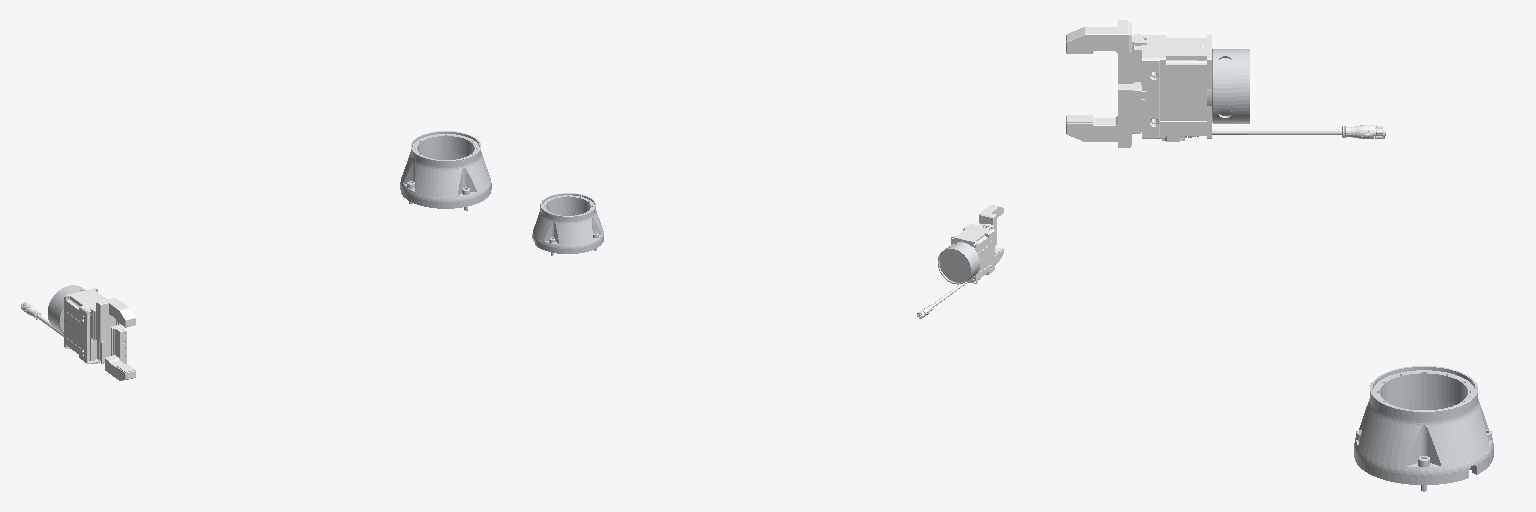
robot.urdf — fr5_robot:
<?xml version="1.0" encoding="utf-8"?>
<!-- This URDF was automatically created by SolidWorks to URDF Exporter! Originally created by [author] ([email redacted]) 
     Commit Version: 1.5.1-0-g916b5db  Build Version: 1.5.7152.31018
     For more information, please see http://wiki.ros.org/sw_urdf_exporter -->
<robot
  name="fr5_robot">

  <link name="world"/>
  <joint name="world" type="fixed">
    <parent link="world"/>
    <child link="base_link"/>
  </joint>

  <link
    name="base_link">
    <inertial>
      <origin
        xyz="-0.00044457 0.0004811 0.032592"
        rpy="0 0 0" />
      <mass
        value="1.073" />
      <inertia
        ixx="0.0024567"
        ixy="-1.5435E-05"
        ixz="-1.3507E-05"
        iyy="0.0024575"
        iyz="1.4421E-05"
        izz="0.0038879" />
    </inertial>
    <visual>
      <origin
        xyz="0 0 0"
        rpy="0 0 0" />
      <geometry>
        <mesh
          filename="package://fr5_description/meshes/visual/base.dae" />
      </geometry>
      <material
        name="">
        <color
          rgba="0.89804 0.91765 0.92941 1" />
      </material>
    </visual>
    <collision>
      <origin
        xyz="0 0 0"
        rpy="0 0 0" />
      <geometry>
        <mesh
          filename="package://fr5_description/meshes/collision/base_link.STL" />
      </geometry>
    </collision>
  </link>
  <link
    name="shoulder_Link">
    <inertial>
      <origin
        xyz="1.3785E-06 -0.0031495 0.14526"
        rpy="0 0 0" />
      <mass
        value="4.1676" />
      <inertia
        ixx="0.010397"
        ixy="-1.005E-08"
        ixz="1.6274E-07"
        iyy="0.010278"
        iyz="0.00015856"
        izz="0.0076307" />
    </inertial>
    <visual>
      <origin
        xyz="0 0 0"
        rpy="0 0 0" />
      <geometry>
        <mesh
          filename="package://fr5_description/meshes/visual/shoulder.dae" />
      </geometry>
      <material
        name="">
        <color
          rgba="0.89804 0.91765 0.92941 1" />
      </material>
    </visual>
    <collision>
      <origin
        xyz="0 0 0"
        rpy="0 0 0" />
      <geometry>
        <mesh
          filename="package://fr5_description/meshes/collision/shoulder_Link.STL" />
      </geometry>
    </collision>
  </link>
  <joint
    name="j1"
    type="revolute">
    <origin
      xyz="0 0 0"
      rpy="0 0 0" />
    <parent
      link="base_link" />
    <child
      link="shoulder_Link" />
    <axis
      xyz="0 0 1" />
    <limit
      lower="-3.0543261"
      upper="3.0543261"
      effort="150"
      velocity="3.15" />
    <calibration
      rising="0"
      falling="0" />
    <dynamics
      damping="0"
      friction="0" />
    <safety_controller
      soft_upper_limit="3.0543261"
      soft_lower_limit="-3.0543261"
      k_position="100.0"
      k_velocity="40.0" />
  </joint>
  <link
    name="upperarm_Link">
    <inertial>
      <origin
        xyz="-2.2928E-05 0.33278 0.084237"
        rpy="0 0 0" />
      <mass
        value="20.782" />
      <inertia
        ixx="2.9074"
        ixy="-0.00023104"
        ixz="-2.5049E-05"
        iyy="0.12653"
        iyz="-0.1479"
        izz="2.8157" />
    </inertial>
    <visual>
      <origin
        xyz="0 0 0"
        rpy="0 0 0" />
      <geometry>
        <mesh
          filename="package://fr5_description/meshes/visual/upperarm.dae" />
      </geometry>
      <material
        name="">
        <color
          rgba="0.89804 0.91765 0.92941 1" />
      </material>
    </visual>
    <collision>
      <origin
        xyz="0 0 0"
        rpy="0 0 0" />
      <geometry>
        <mesh
          filename="package://fr5_description/meshes/collision/upperarm_Link.STL" />
      </geometry>
    </collision>
  </link>
  <joint
    name="j2"
    type="revolute">
    <origin
      xyz="0 0 0.155"
      rpy="1.570796 -1.570796 0" />
    <parent
      link="shoulder_Link" />
    <child
      link="upperarm_Link" />
    <axis
      xyz="0 0 1" />
    <limit
      lower="-4.6251225"
      upper="1.4835298"
      effort="150"
      velocity="3.15" />
    <calibration
      rising="0"
      falling="0" />
    <dynamics
      damping="0"
      friction="0" />
    <safety_controller
      soft_upper_limit="1.4835298"
      soft_lower_limit="-4.6251225"
      k_position="100"
      k_velocity="40" />
  </joint>
  <link
    name="forearm_Link">
    <inertial>
      <origin
        xyz="0.092224 -2.2928E-05 0.084237"
        rpy="0 0 0" />
      <mass
        value="20.782" />
      <inertia
        ixx="0.12653"
        ixy="0.00023104"
        ixz="0.1479"
        iyy="2.9074"
        iyz="-2.5049E-05"
        izz="2.8157" />
    </inertial>
    <visual>
      <origin
        xyz="0 0 0"
        rpy="0 0 0" />
      <geometry>
        <mesh
          filename="package://fr5_description/meshes/visual/forearm.dae" />
      </geometry>
      <material
        name="">
        <color
          rgba="0.89804 0.91765 0.92941 1" />
      </material>
    </visual>
    <collision>
      <origin
        xyz="0 0 0"
        rpy="0 0 0" />
      <geometry>
        <mesh
          filename="package://fr5_description/meshes/collision/forearm_Link.STL" />
      </geometry>
    </collision>
  </link>
  <joint
    name="j3"
    type="revolute">
    <origin
      xyz="0 0.425 0"
      rpy="0 0 -1.570796" />
    <parent
      link="upperarm_Link" />
    <child
      link="forearm_Link" />
    <axis
      xyz="0 0 1" />
    <limit
      lower="-2.8274333"
      upper="2.8274333"
      effort="150"
      velocity="3.15" />
    <calibration
      rising="0"
      falling="0" />
    <dynamics
      damping="0"
      friction="0" />
    <safety_controller
      soft_upper_limit="2.8274333"
      soft_lower_limit="-2.8274333"
      k_position="100"
      k_velocity="40" />
  </joint>
  <link
    name="wrist1_Link">
    <inertial>
      <origin
        xyz="0.48722 -2.2928E-05 0.084237"
        rpy="0 0 0" />
      <mass
        value="20.782" />
      <inertia
        ixx="0.12653"
        ixy="0.00023104"
        ixz="0.1479"
        iyy="2.9074"
        iyz="-2.5049E-05"
        izz="2.8157" />
    </inertial>
    <visual>
      <origin
        xyz="0 0 0"
        rpy="0 0 0" />
      <geometry>
        <mesh
          filename="package://fr5_description/meshes/visual/wrist1.dae" />
      </geometry>
      <material
        name="">
        <color
          rgba="0.89804 0.91765 0.92941 1" />
      </material>
    </visual>
    <collision>
      <origin
        xyz="0 0 0"
        rpy="0 0 0" />
      <geometry>
        <mesh
          filename="package://fr5_description/meshes/collision/wrist1_Link.STL" />
      </geometry>
    </collision>
  </link>
  <joint
    name="j4"
    type="revolute">
    <origin
      xyz="-0.395 0 0"
      rpy="0 0 1.570796" />
    <parent
      link="forearm_Link" />
    <child
      link="wrist1_Link" />
    <axis
      xyz="0 0 1" />
    <limit
      lower="-4.6251225"
      upper="1.4835298"
      effort="28"
      velocity="3.2" />
    <calibration
      rising="0"
      falling="0" />
    <dynamics
      damping="0"
      friction="0" />
    <safety_controller
      soft_upper_limit="1.4835298"
      soft_lower_limit="-4.6251225"
      k_position="100"
      k_velocity="40" />
  </joint>
  <link
    name="wrist2_Link">
    <inertial>
      <origin
        xyz="-2.396E-06 0.0045906 0.099342"
        rpy="0 0 0" />
      <mass
        value="1.570796" />
      <inertia
        ixx="0.0022393"
        ixy="-1.0022E-07"
        ixz="-3.2115E-08"
        iyy="0.0013914"
        iyz="-2.2223E-05"
        izz="0.0021864" />
    </inertial>
    <visual>
      <origin
        xyz="0 0 0"
        rpy="0 0 0" />
      <geometry>
        <mesh
          filename="package://fr5_description/meshes/visual/wrist2.dae" />
      </geometry>
      <material
        name="">
        <color
          rgba="0.89804 0.91765 0.92941 1" />
      </material>
    </visual>
    <collision>
      <origin
        xyz="0 0 0"
        rpy="0 0 0" />
      <geometry>
        <mesh
          filename="package://fr5_description/meshes/collision/wrist2_Link.STL" />
      </geometry>
    </collision>
  </link>
  <joint
    name="j5"
    type="revolute">
    <origin
      xyz="0 0 0.13"
      rpy="1.570796 0 -1.570796" />
    <parent
      link="wrist1_Link" />
    <child
      link="wrist2_Link" />
    <axis
      xyz="0 0 1" />
    <limit
      lower="-3.0543261"
      upper="3.0543261"
      effort="28"
      velocity="3.2" />
    <calibration
      rising="0"
      falling="0" />
    <dynamics
      damping="0"
      friction="0" />
    <safety_controller
      soft_upper_limit="3.0543261"
      soft_lower_limit="-3.0543261"
      k_position="100"
      k_velocity="40" />
  </joint>

  <link
    name="wrist3_Link">
    <inertial>
      <origin
        xyz="5.8427E-06 7.5807E-05 0.079126"
        rpy="0 0 0" />
      <mass
        value="0.52527" />
      <inertia
        ixx="0.00027801"
        ixy="-3.5346E-07"
        ixz="-1.7431E-07"
        iyy="0.00027736"
        iyz="-7.5888E-08"
        izz="0.00041582" />
    </inertial>
    <visual>
      <origin
        xyz="0 0 0"
        rpy="0 0 0" />
      <geometry>
        <mesh
          filename="package://fr5_description/meshes/visual/wrist3.dae" />
      </geometry>
      <material
        name="">
        <color
          rgba="0.89804 0.91765 0.92941 1" />
      </material>
    </visual>
    <collision>
      <origin
        xyz="0 0 0"
        rpy="0 0 0" />
      <geometry>
        <mesh
          filename="package://fr5_description/meshes/collision/wrist3_Link.STL" />
      </geometry>
    </collision>
  </link>

  <joint
    name="j6"
    type="revolute">
    <origin
      xyz="0 0 0.102"
      rpy="-1.570796 1.570796 0" />
    <parent
      link="wrist2_Link" />
    <child
      link="wrist3_Link" />
    <axis
      xyz="0 0 1" />
    <limit
      lower="-3.0543261"
      upper="3.0543261"
      effort="100"
      velocity="3.2" />
    <calibration
      rising="0"
      falling="0" />
    <dynamics
      damping="0"
      friction="0" />
    <safety_controller
      soft_upper_limit="3.0543261"
      soft_lower_limit="-3.0543261"
      k_position="100"
      k_velocity="40" />
  </joint>
  

  <link
    name="hand_base_link">
    <inertial>
      <origin
        xyz="1.045 -0.01 -0.1"
        rpy="0 0 0" />
      <mass
        value="1.415640442478951" />
      <inertia
        ixx="0.00019621588068043"
        ixy="-2.95674210904856E-07"
        ixz="-1.95611838748227E-08"
        iyy="0.000433342528155916"
        iyz="2.12715894328206E-08"
        izz="0.000396532471899526" />
    </inertial>
    <visual>
      <origin
        xyz="0.04 -0.005 0"
        rpy="0 0 0" />
      <geometry>
        <mesh
          filename="package://fr5_description/meshes/hand_base_link.STL" />
      </geometry>
      <material
        name="">
        <color
          rgba="1 1 1 1" />
      </material>
    </visual>
    <collision>
      <origin
        xyz="0.04 -0.005 0"
        rpy="0 0 0" />
      <geometry>
        <mesh
          filename="package://fr5_description/meshes/hand_base_link.STL" />
      </geometry>
    </collision>
  </link>

  <joint name="arm_hand_joint" type="fixed">
    <origin xyz="0 0 0.12" rpy="0 0 3.14159" />
    <parent link="wrist3_Link" />
    <child link="hand_base_link" />
    <axis xyz="0 0 0" />
  <limit lower="-2.79" upper="2.79" effort="100"/>
  </joint>

  <link
    name="finger_link1">
    <inertial>
      <origin
        xyz="-0.0765920818887161 0.0785524897759977 0.00485564932597477"
        rpy="0 0 0" />
      <mass
        value="0.0589543896992846" />
      <inertia
        ixx="2.37128965154064E-05"
        ixy="4.94815116549898E-06"
        ixz="-3.83269385718325E-06"
        iyy="1.98369145830284E-05"
        iyz="4.62772008724202E-06"
        izz="3.37272907966157E-05" />
    </inertial>
    <visual>
      <origin
        xyz="0 0 0"
        rpy="0 0 0" />
      <geometry>
        <mesh
          filename="package://fr5_description/meshes/finger_link1.STL" />
      </geometry>
      <material
        name="">
        <color
          rgba="1 1 1 1" />
      </material>
    </visual>
    <collision>
      <origin
        xyz="0 0 0"
        rpy="0 0 0" />
      <geometry>
        <mesh
          filename="package://fr5_description/meshes/finger_link1.STL" />
      </geometry>
    </collision>
  </link>

  <joint
    name="fj1"
    type="prismatic">
    <origin
      xyz="0.0345 0 0"
      rpy="1.5708 0 0" />
    <parent
      link="hand_base_link" />
    <child
      link="finger_link1" />
    <axis
      xyz="1 0 0" />
    <limit
      lower="0"
      upper="0.04"
      effort="40"
      velocity="1" />
  </joint>
  <link
    name="finger_link2">
    <inertial>
      <origin
        xyz="-0.0765920818887161 0.0800524897759977 0.00485564932597478"
        rpy="0 0 0" />
      <mass
        value="0.0589543896992846" />
      <inertia
        ixx="2.37128965154064E-05"
        ixy="4.94815116549897E-06"
        ixz="-3.83269385718325E-06"
        iyy="1.98369145830285E-05"
        iyz="4.62772008724202E-06"
        izz="3.37272907966157E-05" />
    </inertial>
    <visual>
      <origin
        xyz="0 0 0"
        rpy="0 0 0" />
      <geometry>
        <mesh
          filename="package://fr5_description/meshes/finger_link2.STL" />
      </geometry>
      <material
        name="">
        <color
          rgba="1 1 1 1" />
      </material>
    </visual>
    <collision>
      <origin
        xyz="0 0 0"
        rpy="0 0 0" />
      <geometry>
        <mesh
          filename="package://fr5_description/meshes/finger_link2.STL" />
      </geometry>
    </collision>
  </link>
  <joint
    name="fj2"
    type="prismatic">
    <origin
      xyz="-0.0425 0.0087157 -0.0015"
      rpy="1.5708 0 3.1416" />
    <parent
      link="hand_base_link" />
    <child
      link="finger_link2" />
    <axis
      xyz="1 0 0" />
    <limit
      lower="0"
      upper="0.04"
      effort="40"
      velocity="1" />
  </joint>
</robot>

--- Render facts (derived) ---
3 views of the same robot in one strip: view 1: azimuth 30°, elevation 25°; view 2: azimuth 150°, elevation 25°; view 3: azimuth 270°, elevation 25° (orthographic).
Robot: fr5_robot — 11 links, 10 joints (6 revolute, 2 prismatic, 2 fixed); root link world; default pose: every joint at zero.
Visible links, largest first — view 1: base_link, hand_base_link, finger_link1, finger_link2, wrist3_Link; view 2: base_link, hand_base_link, wrist3_Link; view 3: base_link, hand_base_link, wrist3_Link, finger_link2, finger_link1.
Boxes of the visible links, bbox=[...] form: base_link: bbox=[400, 131, 491, 210]; hand_base_link: bbox=[21, 288, 119, 363]; finger_link1: bbox=[90, 298, 135, 342]; finger_link2: bbox=[105, 324, 135, 380]; wrist3_Link: bbox=[48, 285, 84, 334]; base_link: bbox=[532, 193, 603, 255]; hand_base_link: bbox=[917, 224, 994, 318]; wrist3_Link: bbox=[938, 242, 979, 284]; base_link: bbox=[1354, 366, 1493, 491]; hand_base_link: bbox=[1133, 35, 1385, 141]; wrist3_Link: bbox=[1207, 49, 1249, 123]; finger_link2: bbox=[1066, 82, 1146, 147]; finger_link1: bbox=[1066, 20, 1146, 83].
Size in the robot's own frame: 0.9344 by 0.4563 by 0.1305 metres.
5 mesh visuals loaded from 10 distinct referenced files (3 binary STL, 2 Collada DAE); not drawn: 5 (reference not matched to a file when rendering).